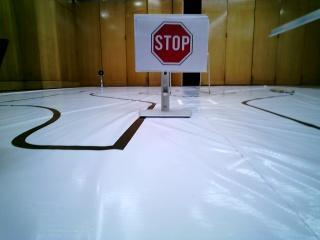stop: (132, 14, 205, 67)
